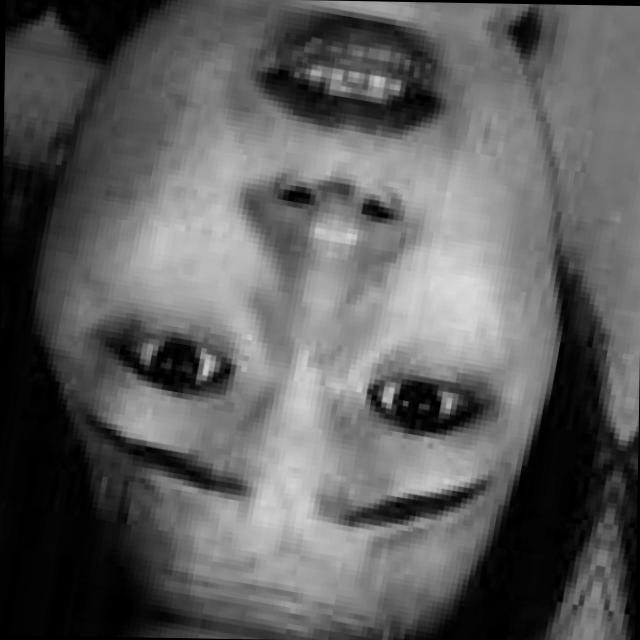fear: (61, 0, 593, 591)
